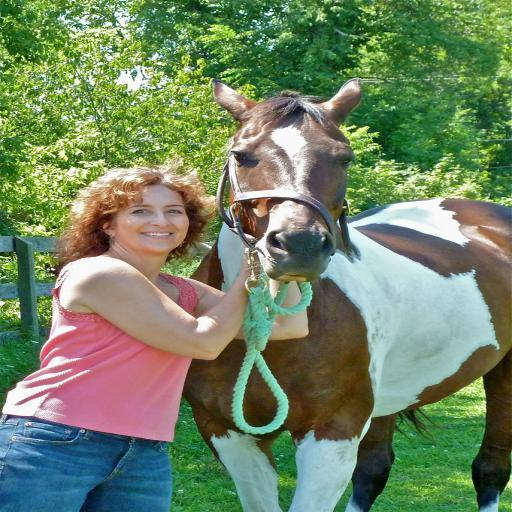horse: (180, 78, 512, 512)
